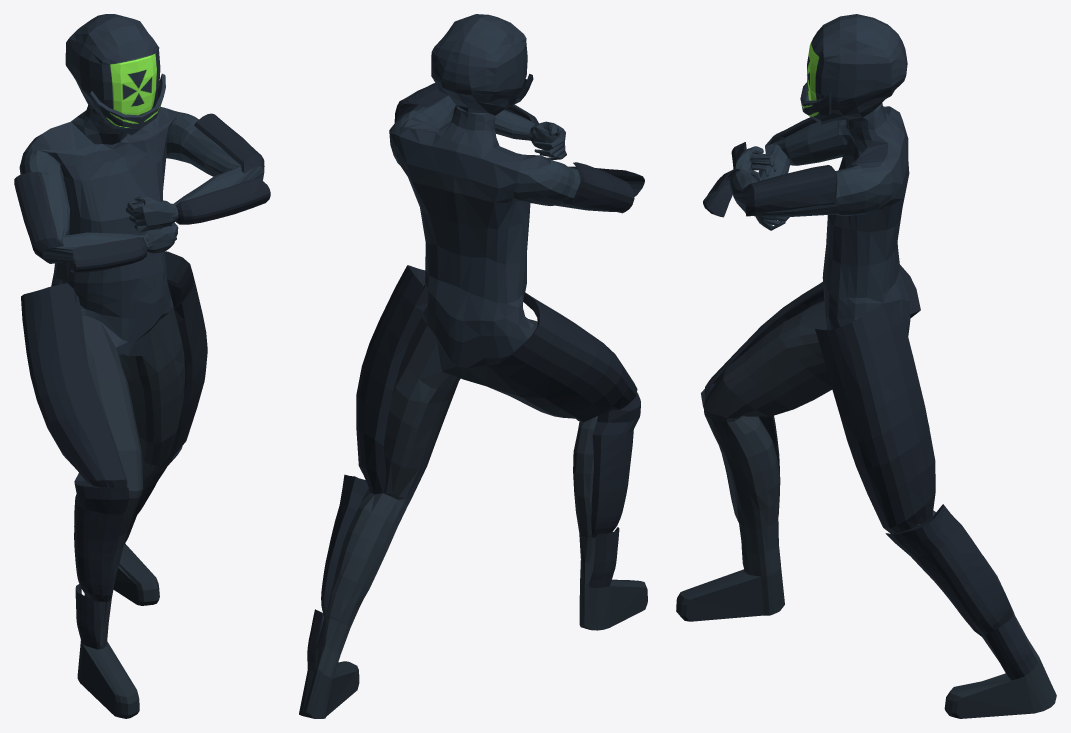
File: Bastion_WF_000024.obj
The picture shows the model from 3 angles, left to right: view 1: azimuth 30°, elevation 25°; view 2: azimuth 150°, elevation 25°; view 3: azimuth 270°, elevation 25°; orthographic projection. The views are drawn at different scales.
Visible parts, largest first — view 1: Cube.002; view 2: Cube.002; view 3: Cube.002.
Part boxes in pixels (<box>): Cube.002: <box>14,14,270,718</box>; Cube.002: <box>299,14,647,718</box>; Cube.002: <box>676,14,1056,718</box>.
Size of the model in its own units: 1.31 by 3.65 by 1.92.
